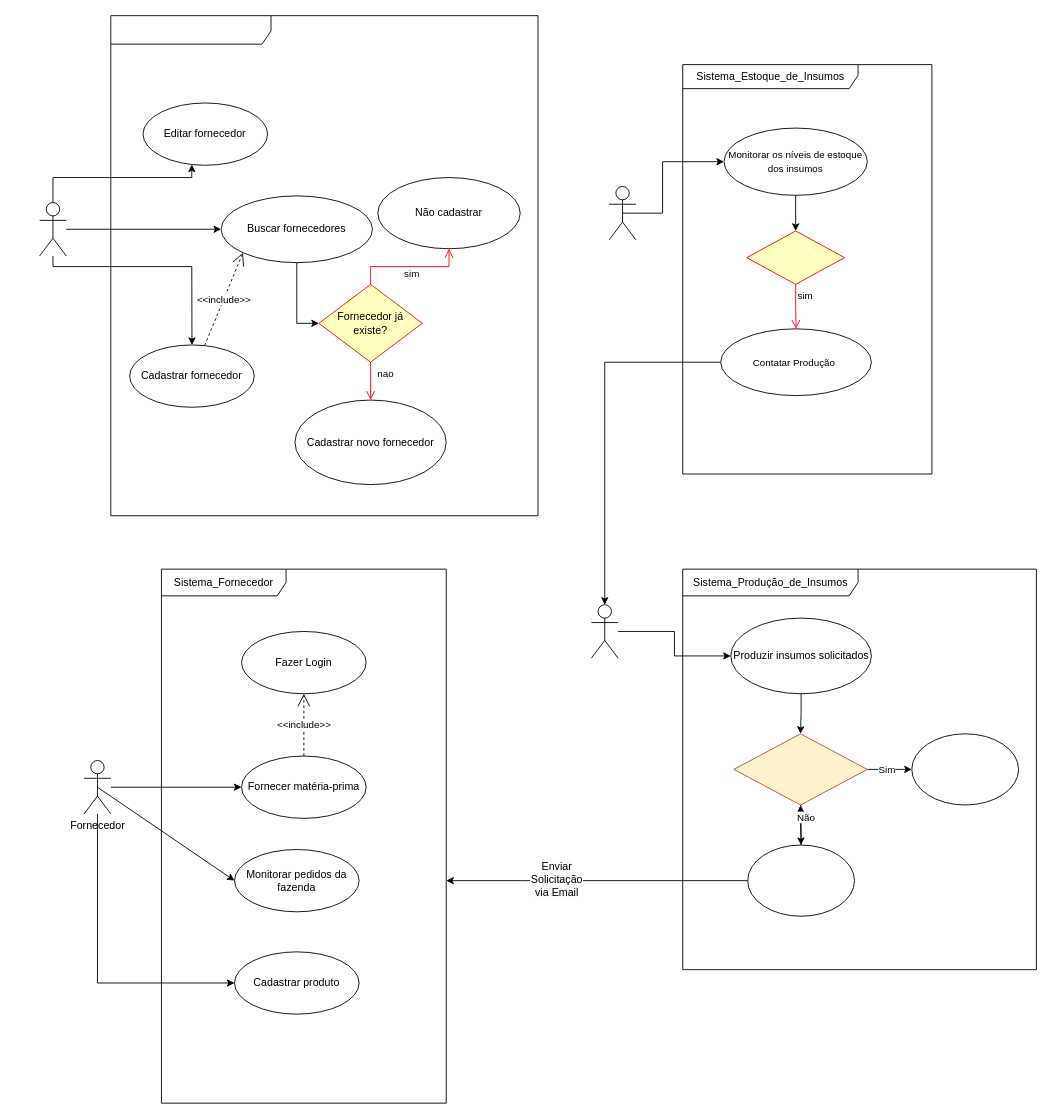
The diagram is 1052 pixels wide and 1119 high, and some of its shapes have lost their labels. The shapes that lost their labels are listed below. From the top down, each one's centre as x and y in pixels, then its label:
At pixel 52 229: "Admin Fazenda".
At pixel 622 213: "Estoquista de Insumos".
At pixel 324 265: "Sistema- Cadastro-Fornecedor".
At pixel 795 257: "Estoque vazio?".
At pixel 604 631: "Encarregado de produção".
At pixel 800 769: "Há matéria prima?".
At pixel 965 769: "Fornecer ao estoque".
At pixel 800 880: "Contatar Fornecedor".
